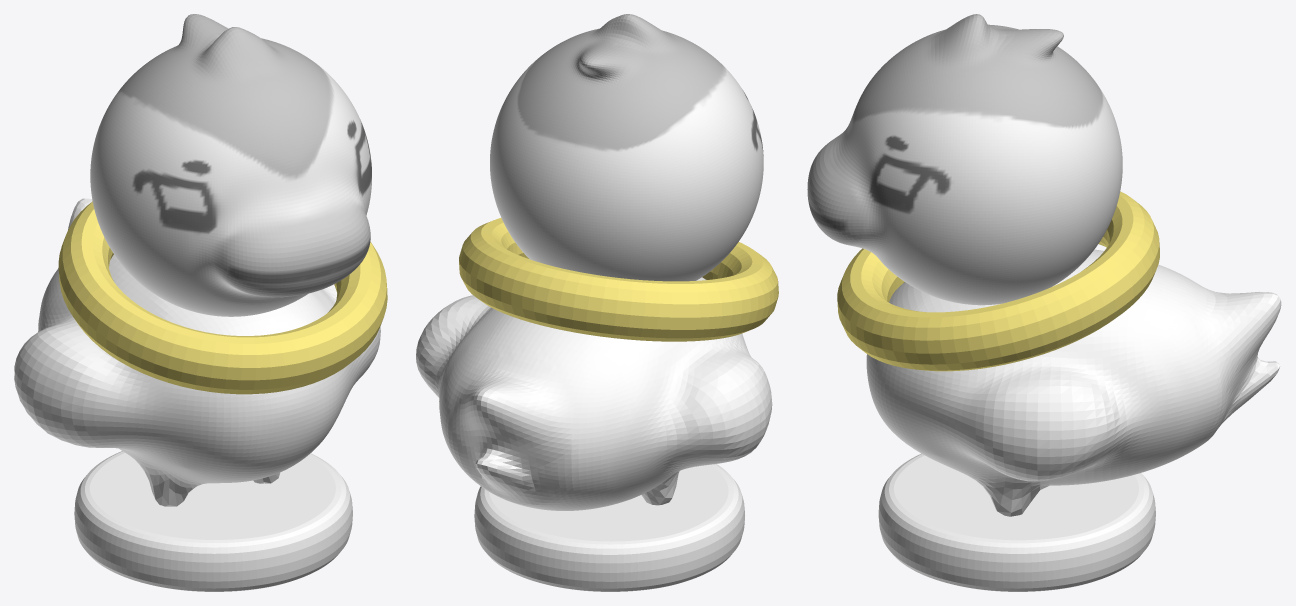
Rendered from pebbles.glb.
3 renders of one model, left to right at view 1: azimuth 30°, elevation 25°; view 2: azimuth 150°, elevation 25°; view 3: azimuth 270°, elevation 25°, orthographic. The views are drawn at different scales.
Visible parts, largest first — view 1: Quad Sphere (×2), Cylinder (×2), Torus; view 2: Quad Sphere (×2), Cylinder (×2), Torus; view 3: Quad Sphere (×2), Cylinder (×2), Torus.
Part boxes in pixels (<box>): Quad Sphere (×2): <box>14,14,380,506</box>; Cylinder (×2): <box>74,451,352,591</box>; Torus: <box>58,201,387,394</box>; Quad Sphere (×2): <box>416,14,772,510</box>; Cylinder (×2): <box>474,464,744,591</box>; Torus: <box>459,218,778,341</box>; Quad Sphere (×2): <box>807,14,1281,516</box>; Cylinder (×2): <box>878,453,1155,591</box>; Torus: <box>837,191,1159,371</box>.
Size of the model in its own units: 1.4 by 2.06 by 1.69.
